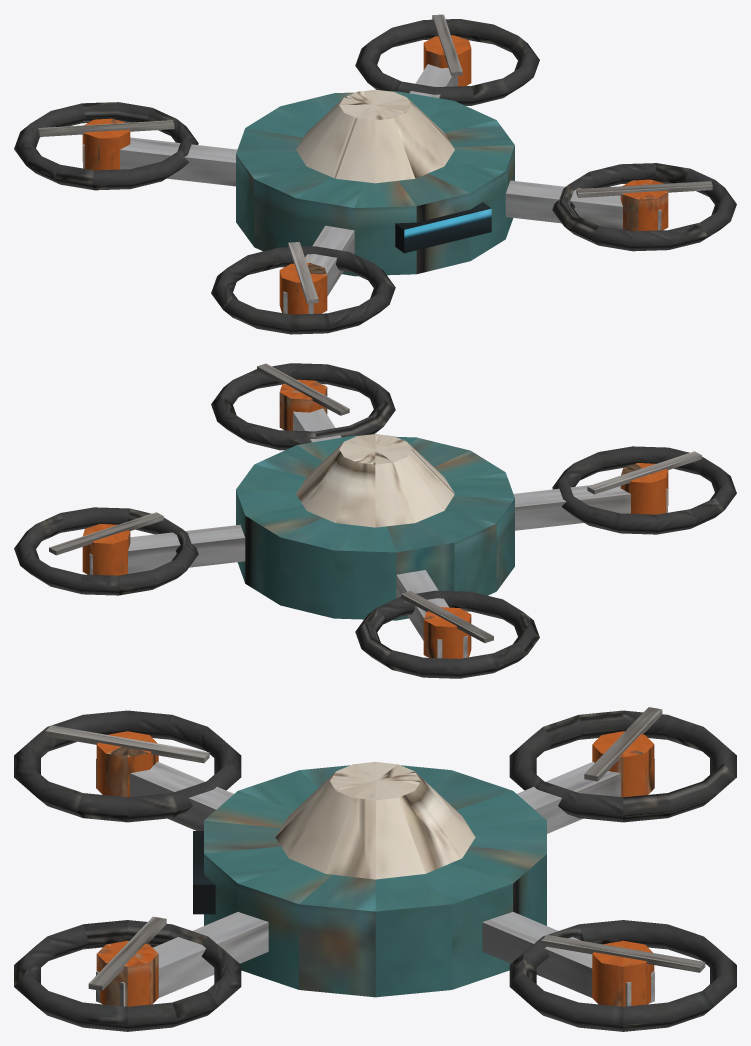
File: salvage-drone.gltf
3 views of the same model, one above another, from view 1: azimuth 30°, elevation 25°; view 2: azimuth 150°, elevation 25°; view 3: azimuth 270°, elevation 25° (orthographic). The views are drawn at different scales.
Parts seen in each view (by area): view 1: SalvageDroneGeometry; view 2: SalvageDroneGeometry; view 3: SalvageDroneGeometry.
Part boxes in pixels (x1,y1,x2,y2): SalvageDroneGeometry: [14, 14, 736, 334]; SalvageDroneGeometry: [14, 363, 736, 678]; SalvageDroneGeometry: [14, 707, 736, 1031].
Size of the model in its own units: 4.47 by 1.31 by 4.43.
Materials: 8 (8 with a texture image).
